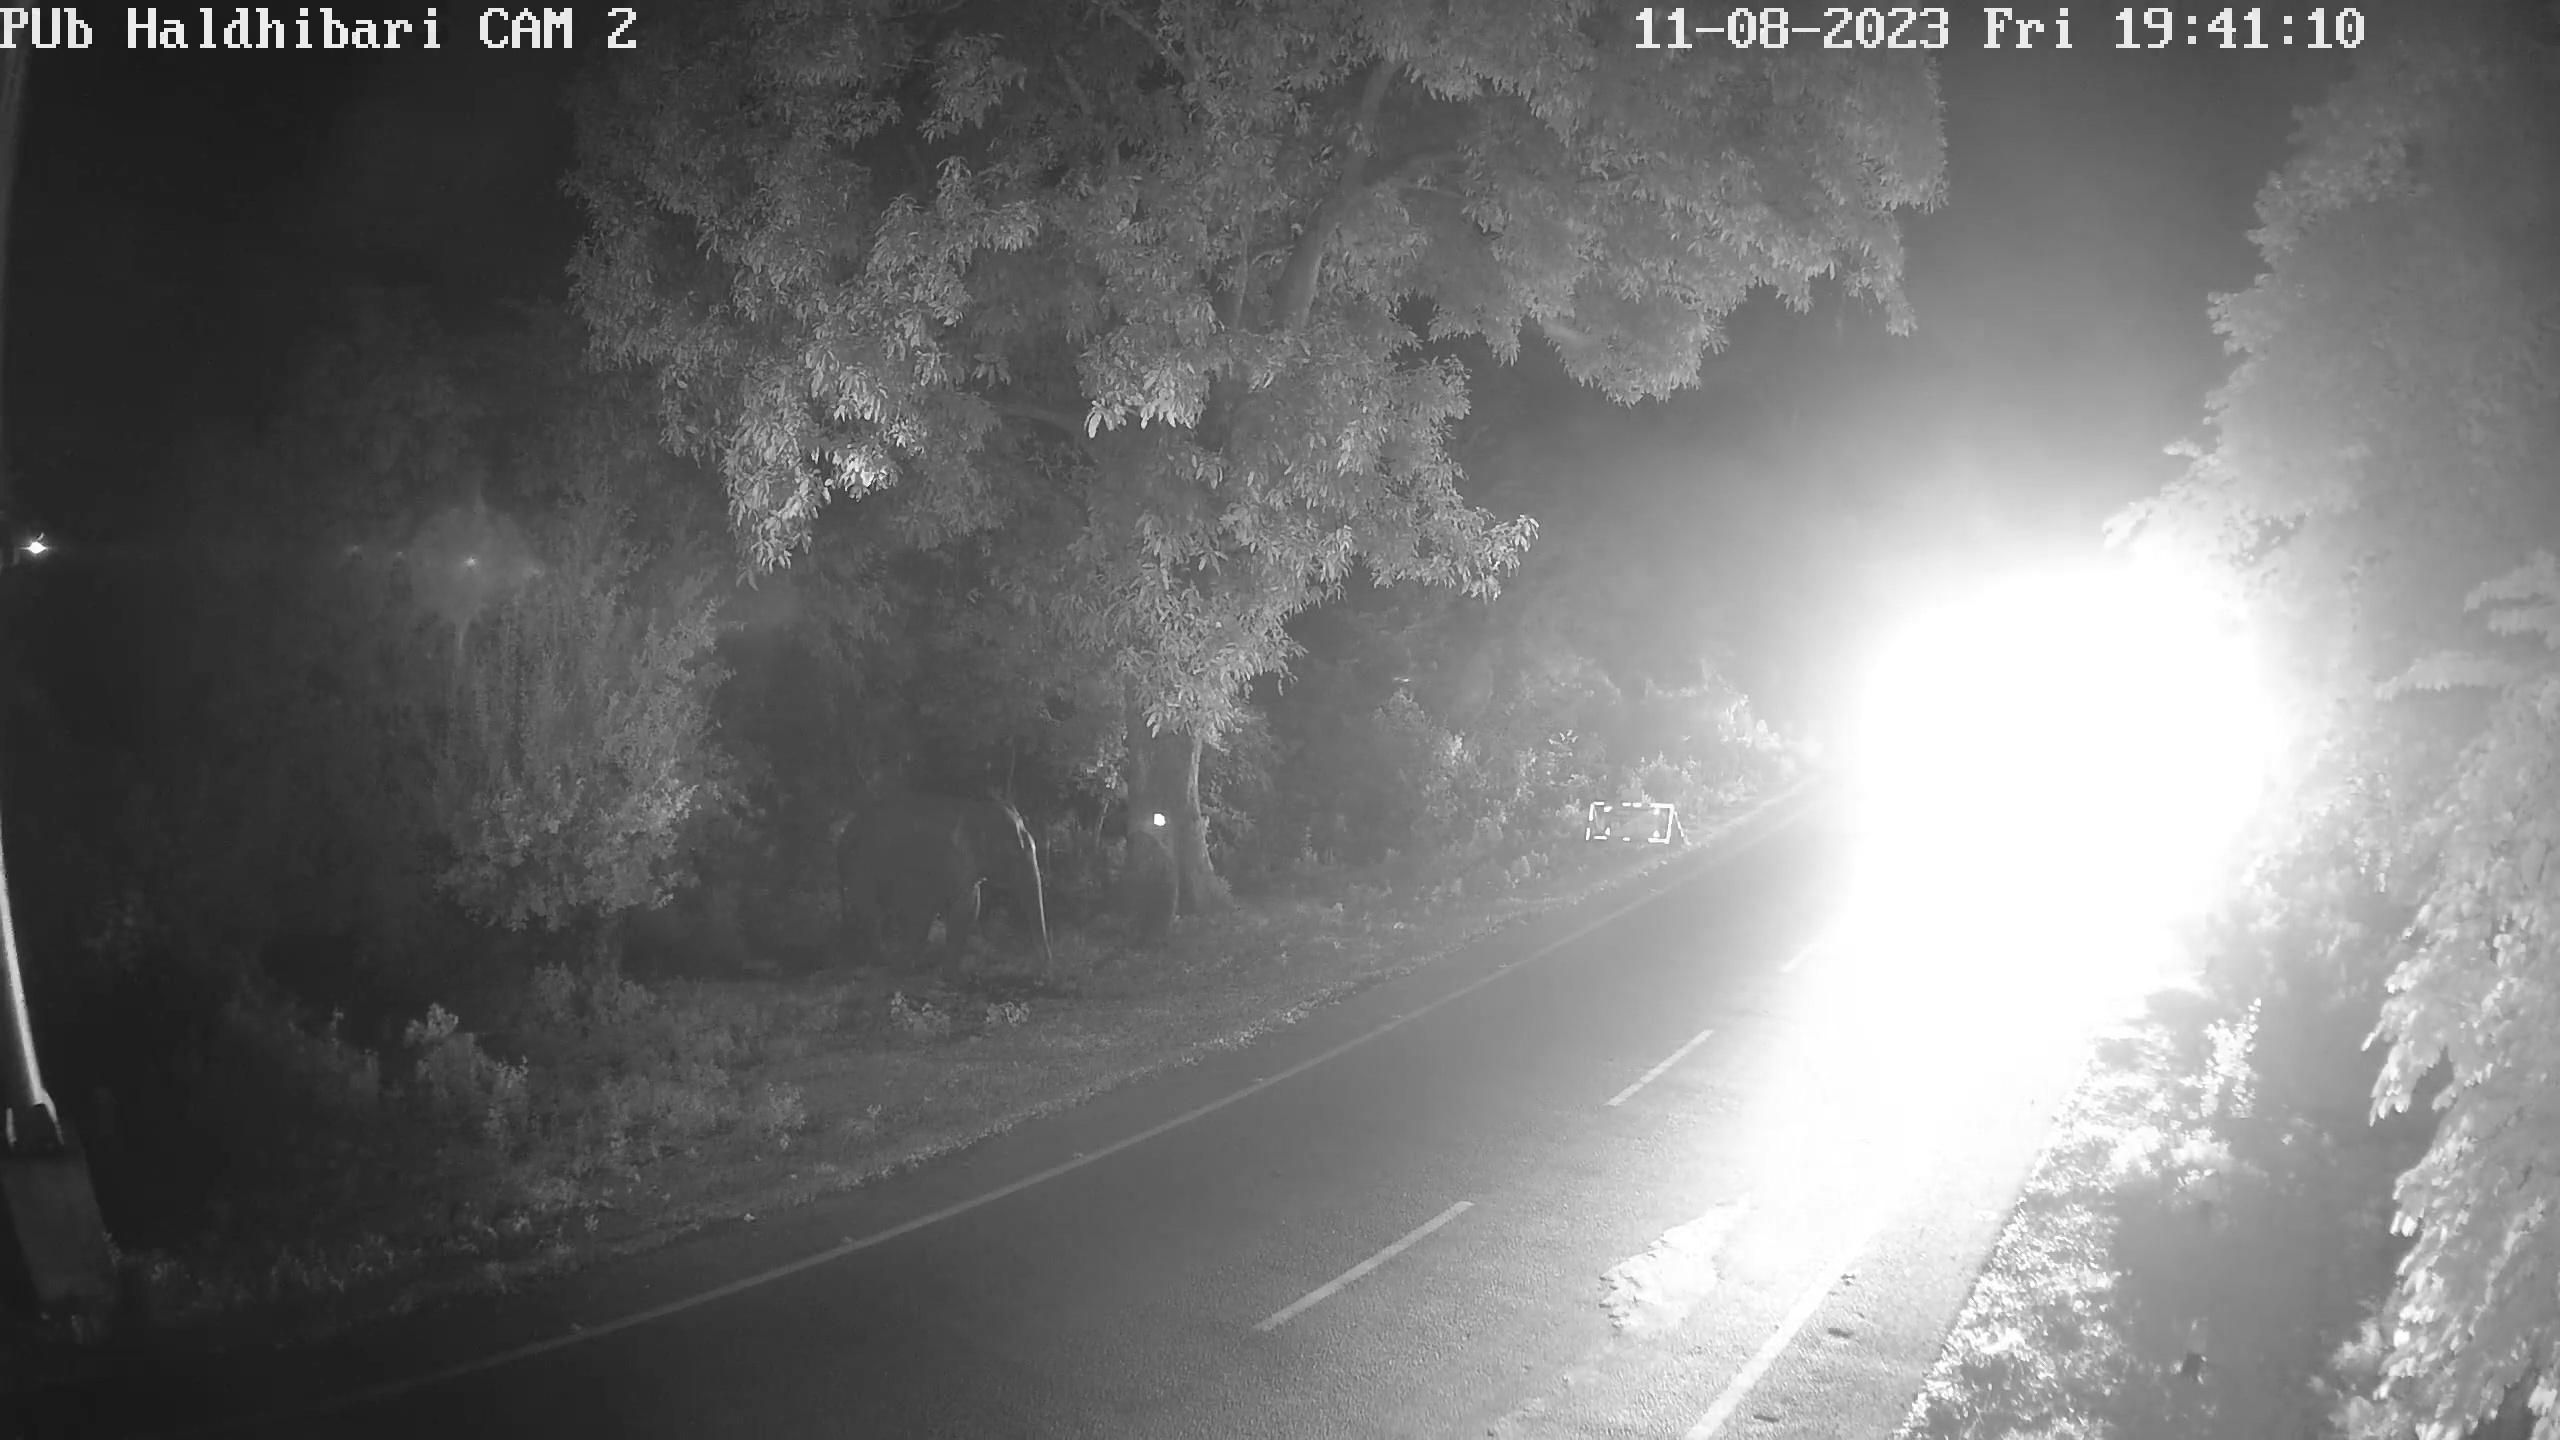elephants: (846, 793, 1048, 976)
